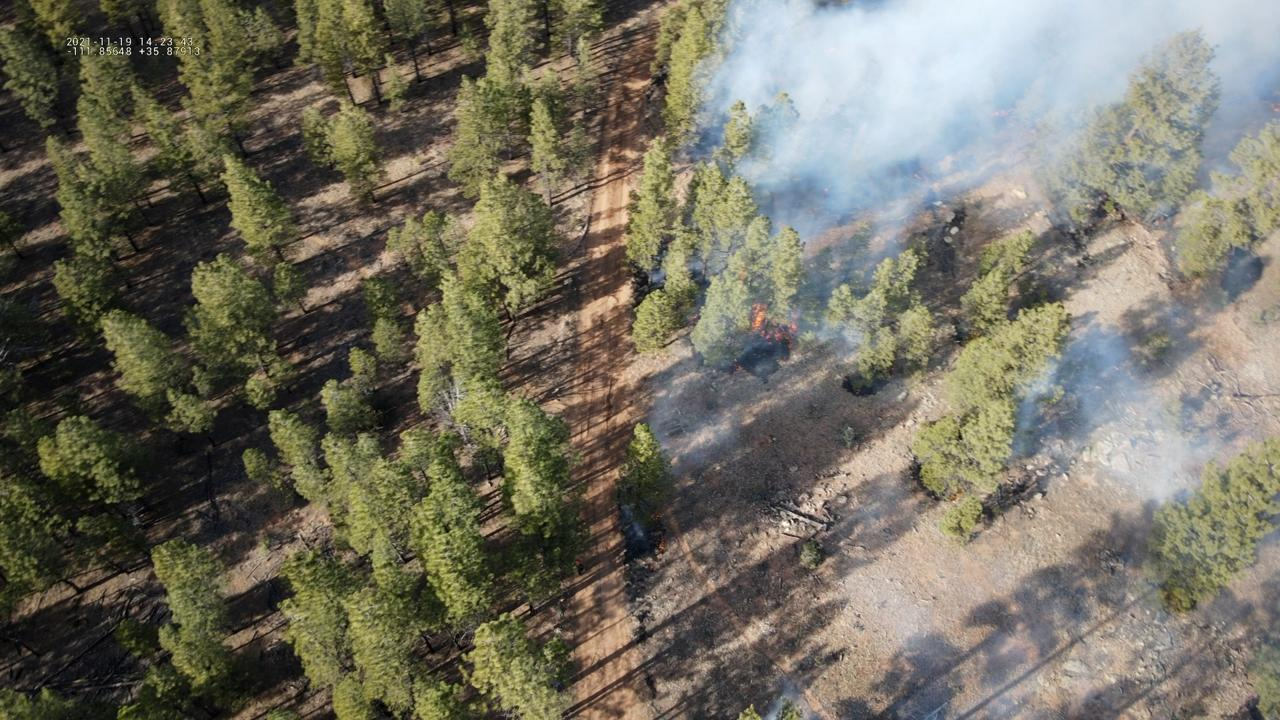fire: (746, 303, 798, 348), (657, 538, 665, 553), (737, 271, 746, 281), (1269, 106, 1280, 112)
smoke: (645, 0, 1280, 481), (1004, 317, 1280, 513), (622, 504, 644, 540)
